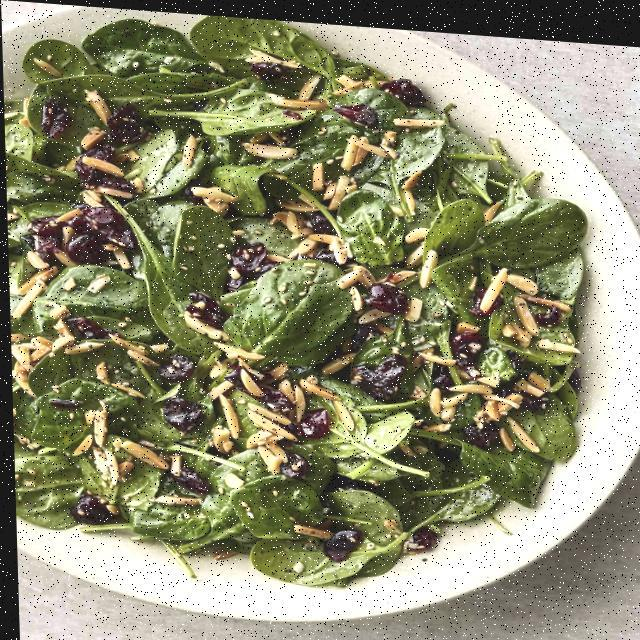Spinach: (0, 0, 589, 615)
